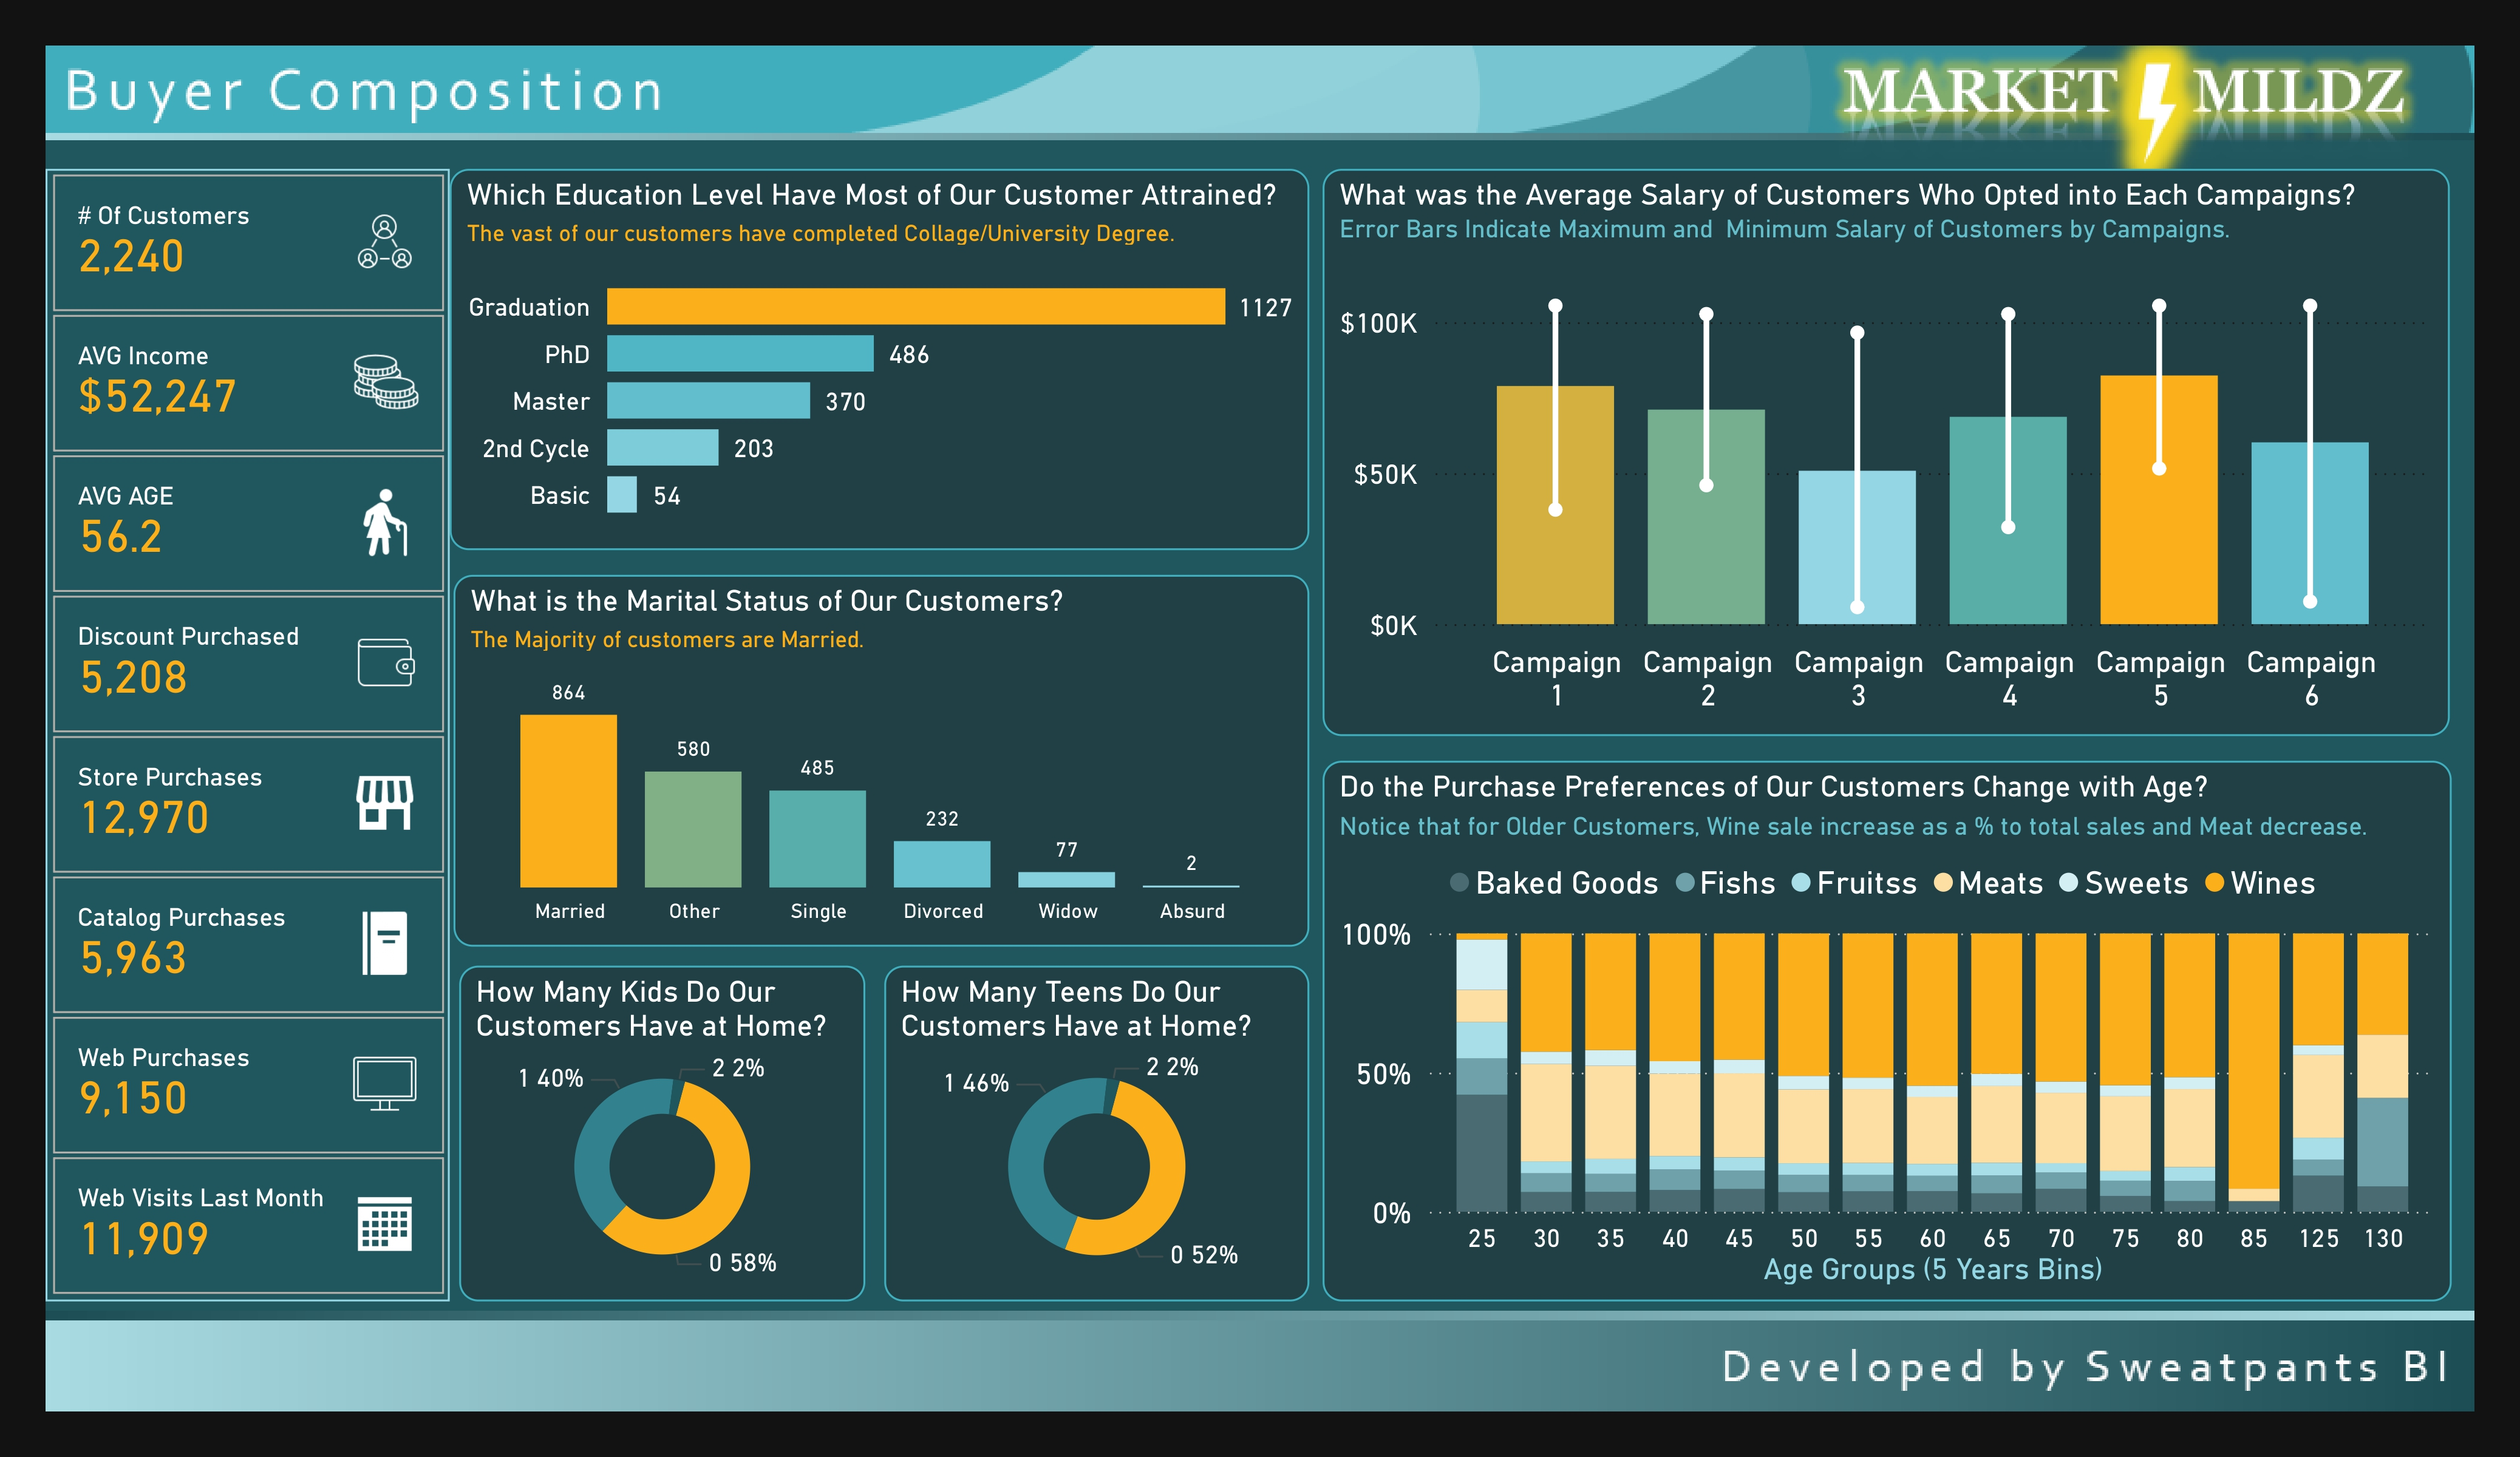

The page's visual inventory and layout, read from the dashboard file:
{"tool":"powerbi","page":{"name":"Buyer Composition","canvas":[1280,720],"ordinal":1},"visuals":[{"type":"clusteredBarChart","title":"Which Education Level Have Most of Our Customer Attrained?","fields":{"Category":["marketmindz_research_data.Education"],"Y":["CountNonNull(marketmindz_research_data.ID)"]},"box":[212.5,65.2,453.4,201.2],"z":0},{"type":"columnChart","title":"What is the Marital Status of Our Customers?","fields":{"Y":["CountNonNull(marketmindz_research_data.ID)"],"Category":["marketmindz_research_data.Marital_Status"]},"box":[215.4,279.1,450.6,195.5],"z":1000},{"type":"donutChart","title":"How Many Kids Do Our Customers Have at Home?","fields":{"Y":["CountNonNull(marketmindz_research_data.ID)"],"Category":["marketmindz_research_data.Kidhome"]},"box":[218.2,484.6,213.9,177.1],"z":2000},{"type":"donutChart","title":"How Many Teens Do Our Customers Have at Home?","fields":{"Y":["CountNonNull(marketmindz_research_data.ID)"],"Category":["marketmindz_research_data.Teenhome"]},"box":[442.1,484.6,223.9,177.1],"z":3000},{"type":"columnChart","title":"What was the Average Salary of Customers Who Opted into Each Campaigns?","fields":{"Category":["campaign.Campaign"],"Y":["Avg(marketmindz_research_data. Income )"]},"box":[673,65.2,593.7,299],"z":4000},{"type":"hundredPercentStackedColumnChart","title":"Do the Purchase Preferences of Our Customers Change with Age?","fields":{"Y":["Sum(products.Total Sales)"],"Series":["products.Product"],"Category":["marketmindz_research_data.Age Group"]},"box":[673,376.9,595.1,284.8],"z":5000},{"type":"cardVisual","fields":{"Data":["CountNonNull(marketmindz_research_data.ID)","Avg(marketmindz_research_data. Income )","Avg(marketmindz_research_data.Age)","Sum(marketmindz_research_data.Purchased - Deal)","Sum(marketmindz_research_data.Purchased - Store)","Sum(marketmindz_research_data.Purchased - Catalog)","Sum(marketmindz_research_data.Purchased - Web)","Sum(marketmindz_research_data.Web Visits Last Month)"]},"box":[0,65.2,212.5,596.5],"z":6000}]}

Visuals, with their boxes on the page's 1280x720 design canvas (x1, y1, x2, y2). These are canvas units, not pixel positions in the 2520x1457 screenshot, which may show the page scaled, cropped or inside an application window:
"Which Education Level Have Most of Our Customer Attrained?" clusteredBarChart: locate(212, 65, 666, 266)
"What is the Marital Status of Our Customers?" columnChart: locate(215, 279, 666, 475)
"How Many Kids Do Our Customers Have at Home?" donutChart: locate(218, 485, 432, 662)
"How Many Teens Do Our Customers Have at Home?" donutChart: locate(442, 485, 666, 662)
"What was the Average Salary of Customers Who Opted into Each Campaigns?" columnChart: locate(673, 65, 1267, 364)
"Do the Purchase Preferences of Our Customers Change with Age?" hundredPercentStackedColumnChart: locate(673, 377, 1268, 662)
cardVisual - CountNonNull(marketmindz_research_data.ID) x Avg(marketmindz_research_data. Income ): locate(0, 65, 212, 662)
